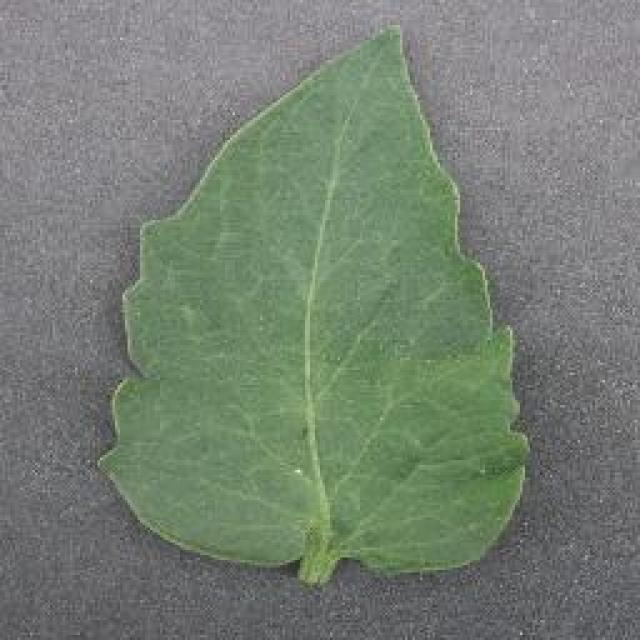healthy: (97, 21, 523, 578)
